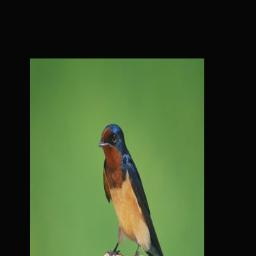Swallow: (98, 122, 166, 256)
